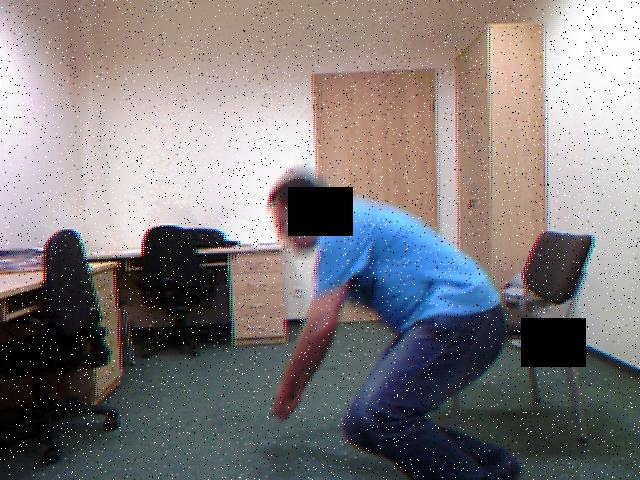near-fall: (247, 162, 541, 480)
